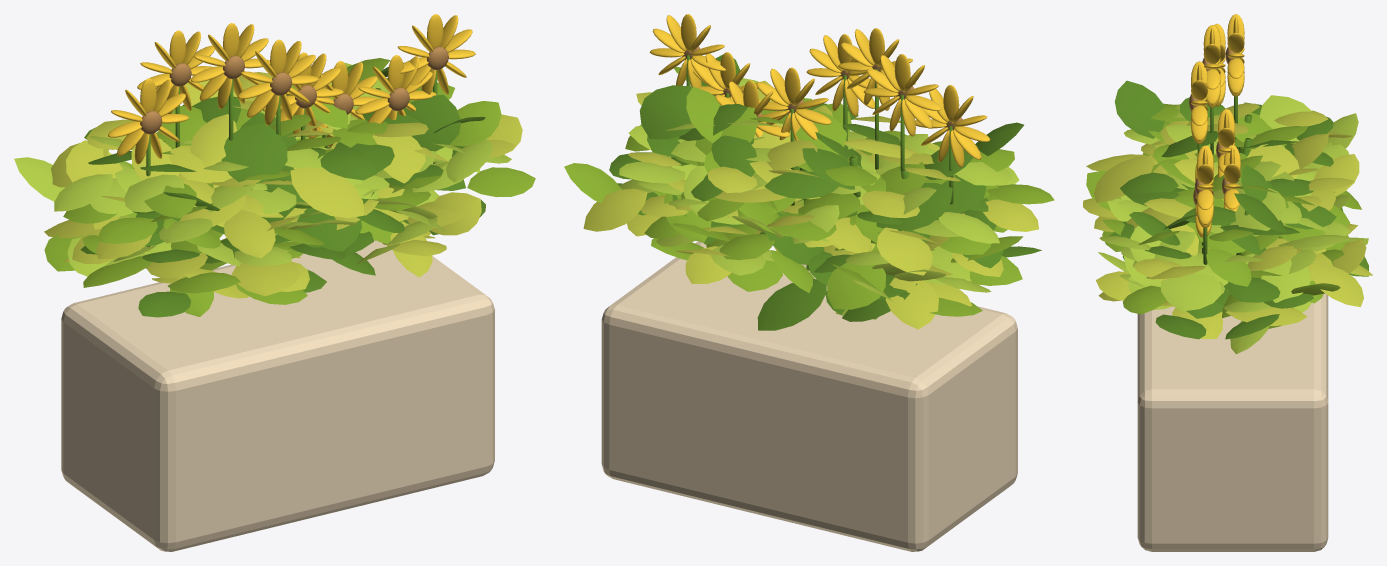
The model's file is FullPlanter.fbx.
3 views of the same model, side by side, from view 1: azimuth 30°, elevation 25°; view 2: azimuth 150°, elevation 25°; view 3: azimuth 270°, elevation 25° (orthographic). The views are drawn at different scales.
Parts seen in each view (by area): view 1: FullPlanter.001; view 2: FullPlanter.001; view 3: FullPlanter.001.
Part boxes in pixels (bbox=[...]): FullPlanter.001: bbox=[14, 14, 535, 551]; FullPlanter.001: bbox=[564, 14, 1054, 551]; FullPlanter.001: bbox=[1083, 14, 1372, 551].
Bounding box in the file's own units: 1.38 × 1.49 × 0.9123.
